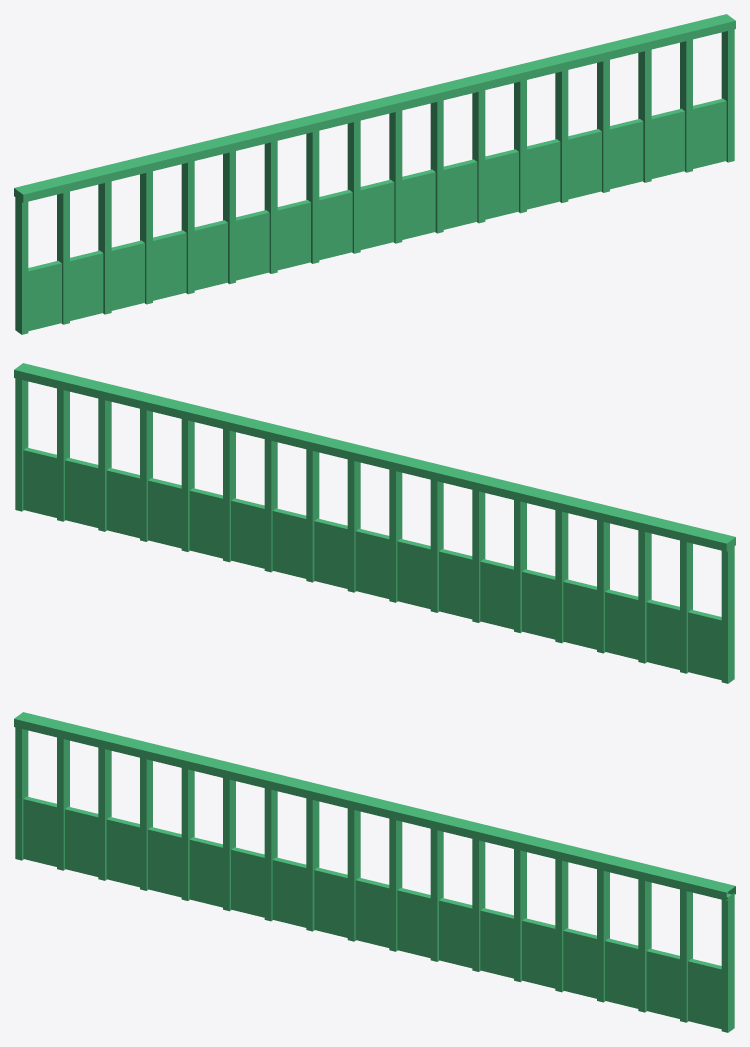
Rendered from Partitions_067.glb.
3 views of the same model, one above another, from view 1: azimuth 30°, elevation 25°; view 2: azimuth 150°, elevation 25°; view 3: azimuth 330°, elevation 25° (orthographic).
Parts seen in each view (by area): view 1: Partitions_067; view 2: Partitions_067; view 3: Partitions_067.
Part boxes in pixels (x1,y1,x2,y2): Partitions_067: (14,14,735,334); Partitions_067: (14,363,735,683); Partitions_067: (14,712,735,1032).
Bounding box in the file's own units: 4 × 0.7575 × 0.0897.
1 material, 1 textured.
